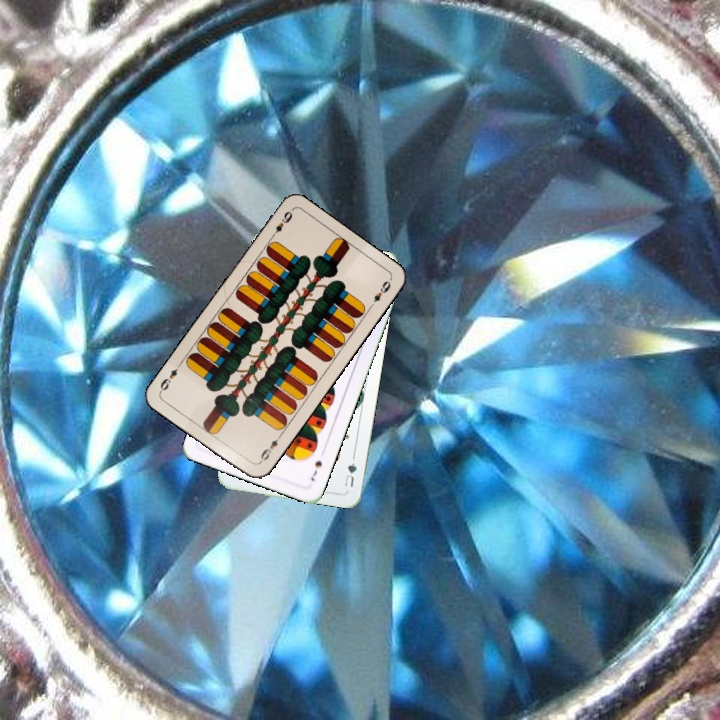E9: (255, 430, 284, 466), (266, 207, 295, 242)
GU: (340, 452, 359, 490)
S7: (306, 457, 325, 484)
